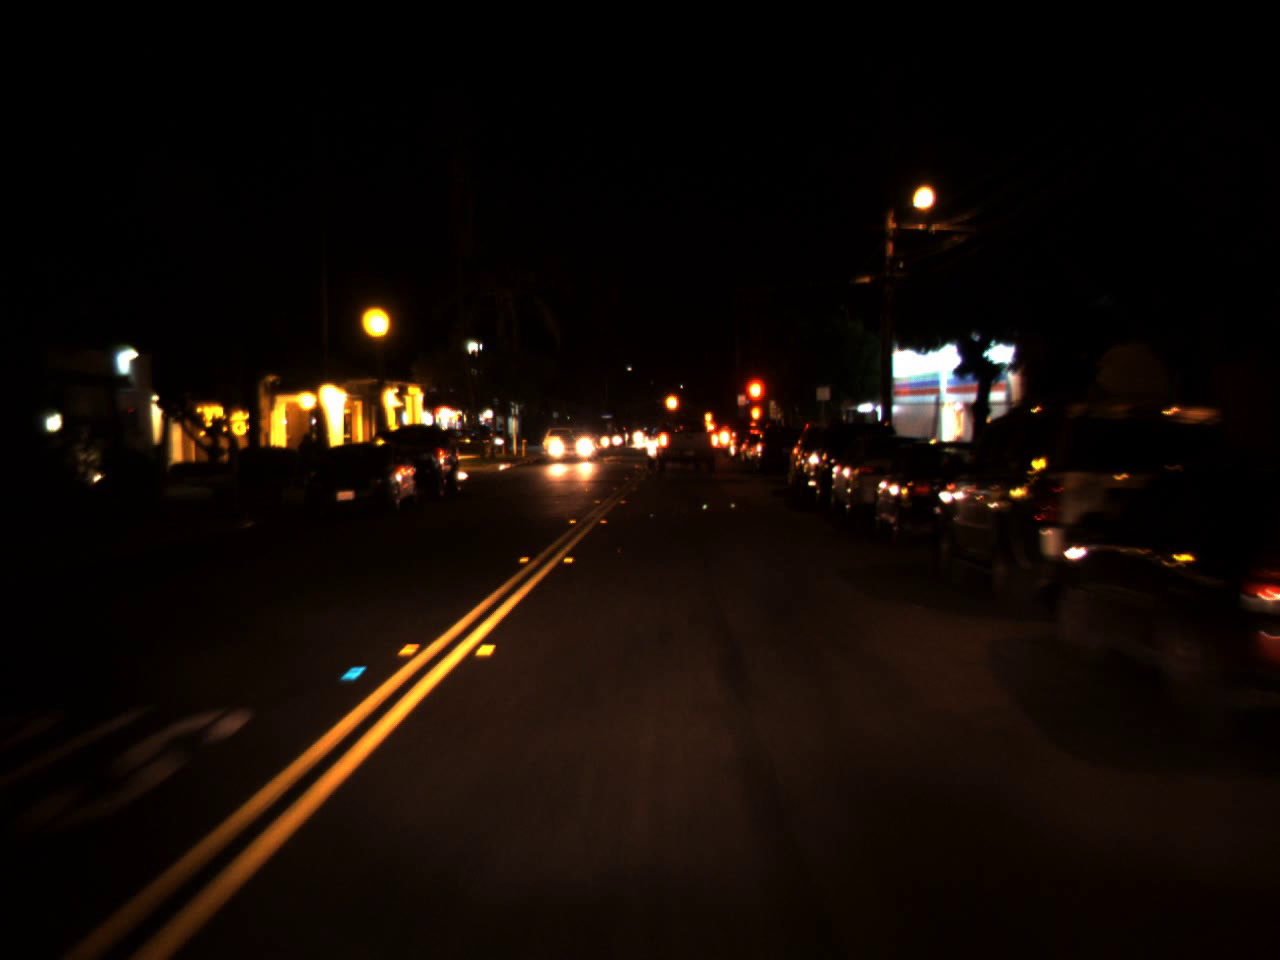stop: (741, 375, 768, 429)
warning: (663, 384, 681, 419), (702, 405, 712, 425)
